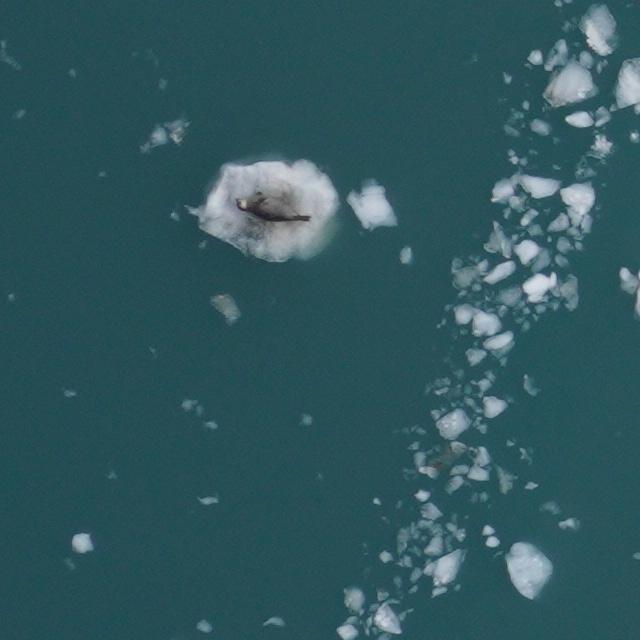seal: (234, 191, 311, 223)
